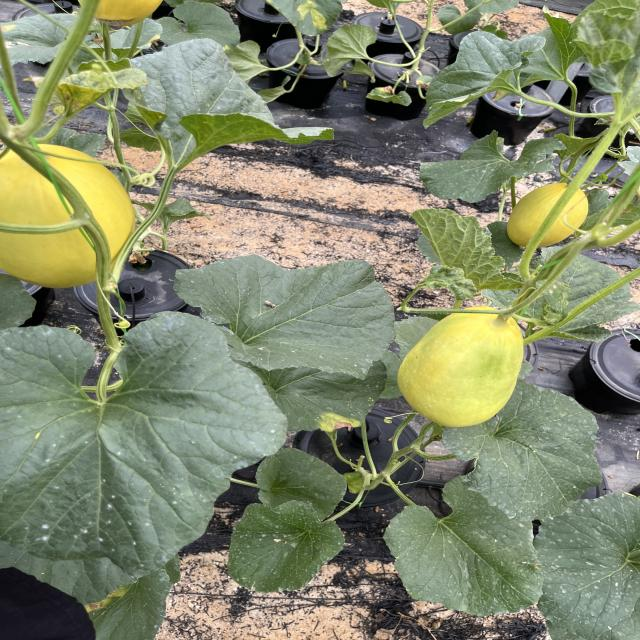CMV: (410, 208, 513, 298)
SLCV: (410, 266, 484, 301)
alternaria leaf blight: (261, 366, 385, 431)
downy mildew: (174, 255, 394, 373), (437, 376, 609, 521), (120, 40, 306, 168), (390, 486, 549, 615), (529, 493, 640, 636), (176, 113, 340, 160), (258, 0, 346, 37)
healthy: (423, 31, 545, 129), (255, 449, 346, 522)
powdery mildew: (0, 313, 265, 598)
